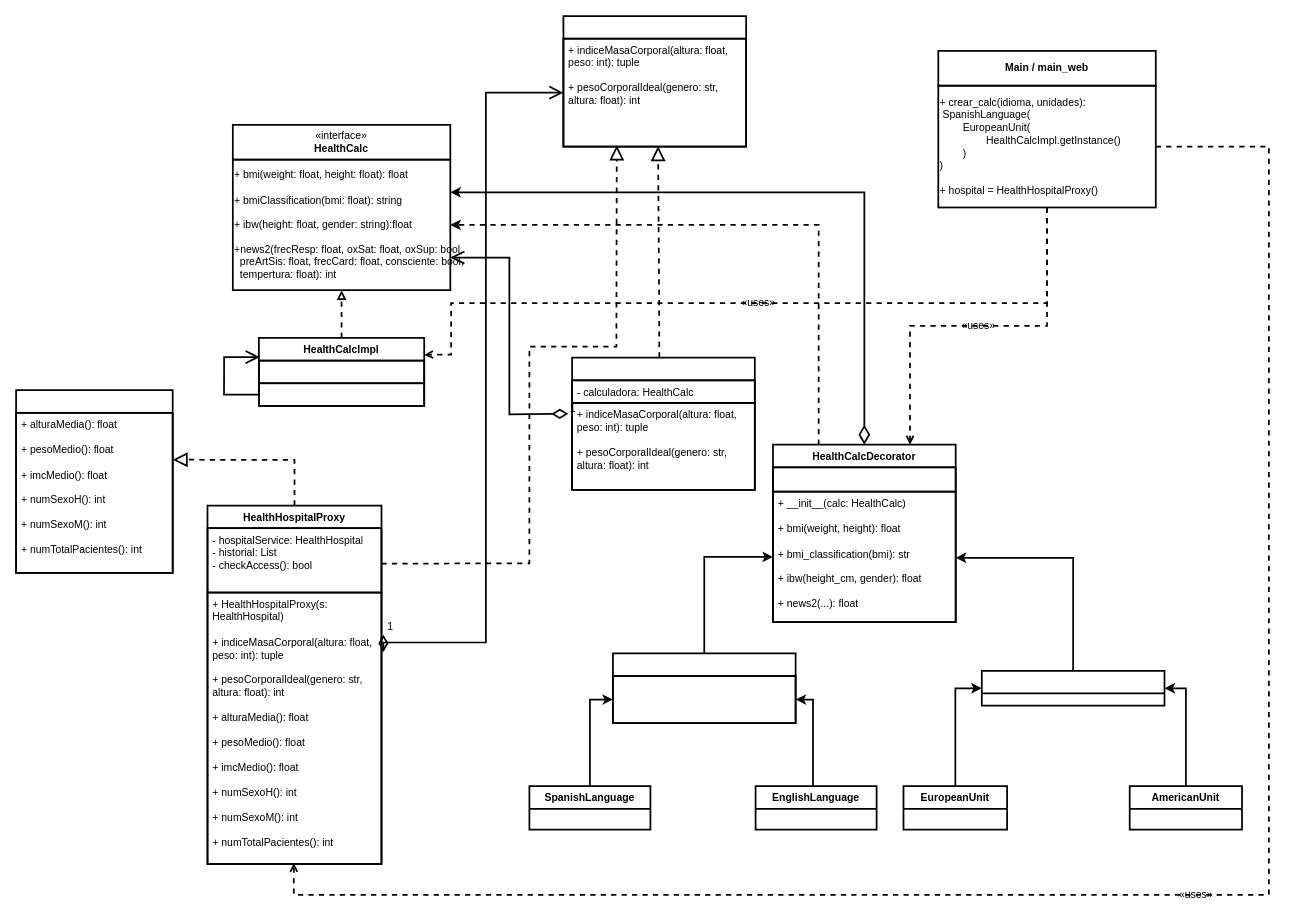
Some shapes in this 1291 by 918 pixel diagram are drawn without their labels. The shapes that lost their labels are listed below. From the top down, each one's box as (x1, y1, x2, y2) in pixels, then its label:
(562, 15, 747, 147): <<interface>> HealthHospital
(258, 359, 425, 384): - Instance: HealthCalcImpl
(258, 382, 425, 406): + getInstance(): HealthCalcImpl
(571, 356, 755, 490): HealthHospitalAdapter
(15, 389, 173, 573): «interface» HealthStats
(772, 466, 956, 492): + calc: HealthCalc
(612, 652, 796, 723): LanguageDecorator
(612, 675, 796, 723): + traducir(texto: str): str + traducir_error(msg: str): str
(980, 670, 1165, 706): UnitDecorator
